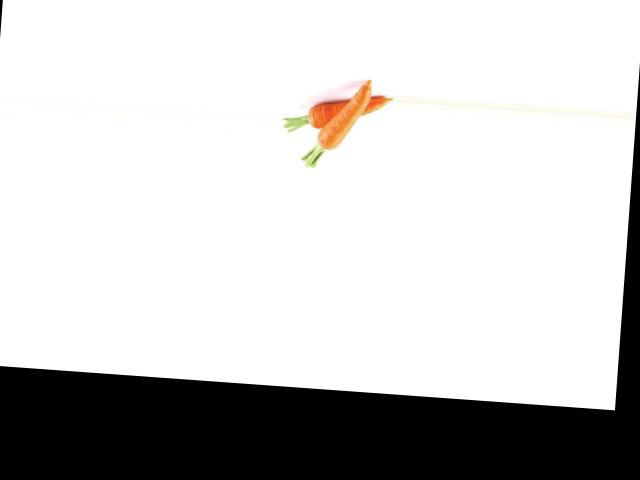carrot: (294, 93, 391, 129)
